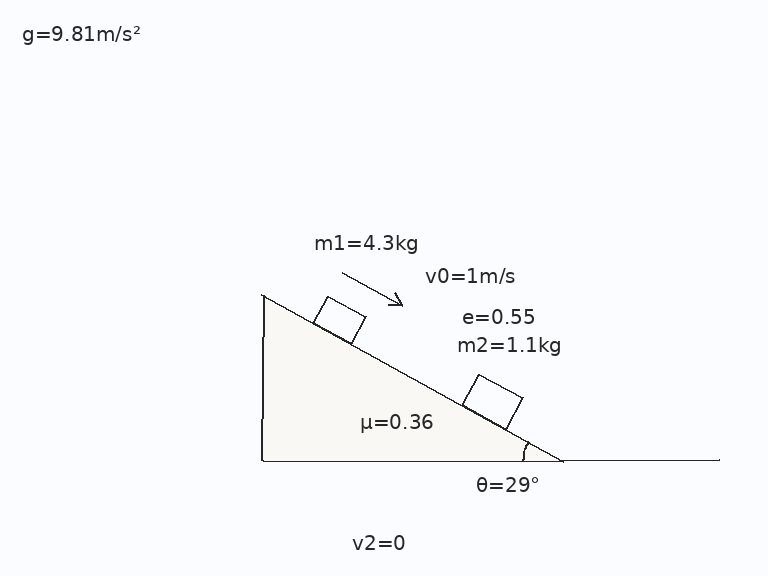block: (460, 372, 524, 431), (312, 294, 367, 345)
ramp: (261, 293, 565, 463)
